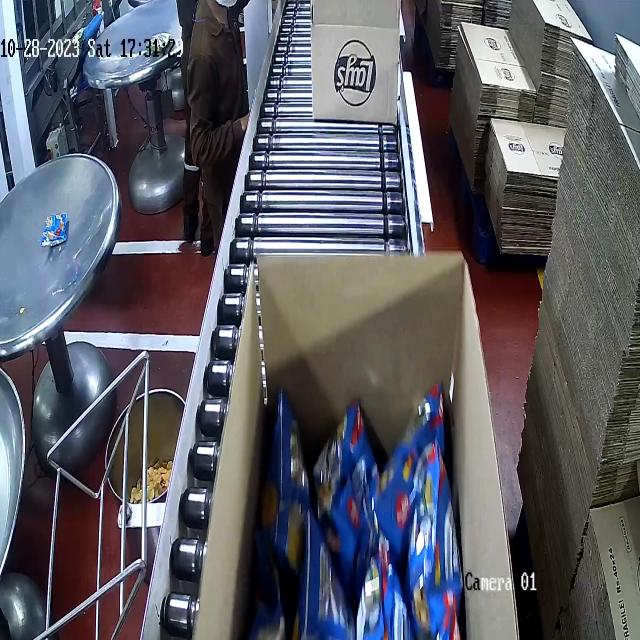PAPRIKA: (263, 356, 461, 600)
